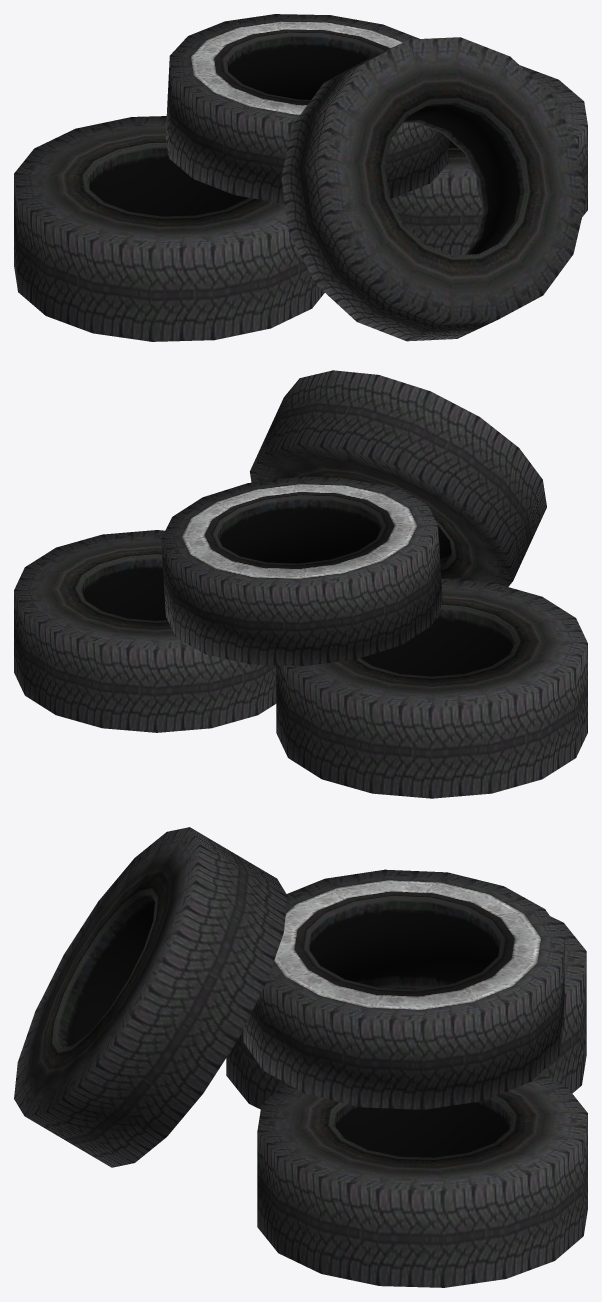
Rendered from tire_four_pile.fbx.
3 views of the same model, one above another, from view 1: azimuth 30°, elevation 25°; view 2: azimuth 150°, elevation 25°; view 3: azimuth 270°, elevation 25° (orthographic). The views are drawn at different scales.
Visible parts, largest first — view 1: mesh_0; view 2: mesh_0; view 3: mesh_0.
Part boxes in pixels (x1,y1,x2,y2): mesh_0: (14,14,587,341); mesh_0: (14,370,587,798); mesh_0: (14,827,587,1287).
Size of the model in its own units: 138 by 65.34 by 112.
1 material, 1 textured.
